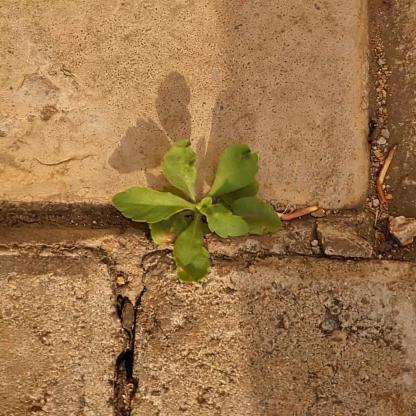Weeds: (110, 139, 283, 284)
